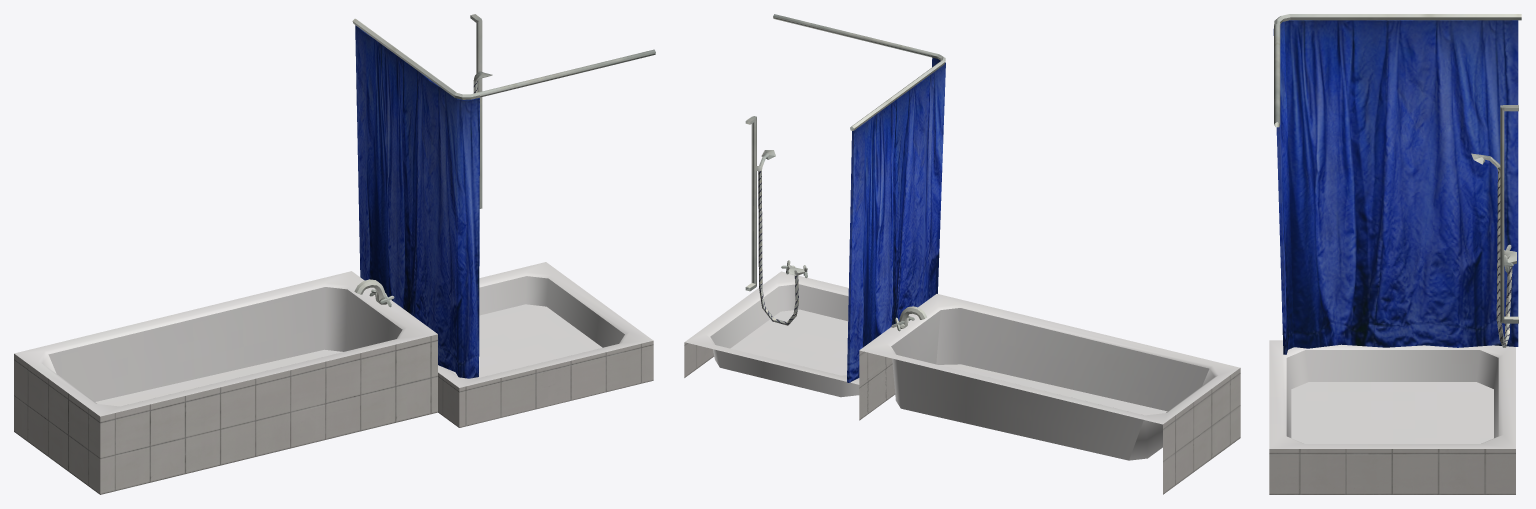
Rendered from Shower.FBX.
3 views of the same model, side by side, from view 1: azimuth 30°, elevation 25°; view 2: azimuth 150°, elevation 25°; view 3: azimuth 270°, elevation 25° (orthographic). The views are drawn at different scales.
Visible parts, largest first — view 1: ShowerBorder, Shower001, Curtain, Pipe; view 2: Shower001, Curtain, ShowerBorder, Pipe, ShowerPipe; view 3: Curtain, Shower001, ShowerBorder, Pipe, ShowerPipe.
Part boxes in pixels (x1,y1,x2,y2): ShowerBorder: (14,334,653,494); Shower001: (14,262,652,416); Curtain: (355,25,479,378); Pipe: (352,14,655,307); Shower001: (685,271,1239,460); Curtain: (847,57,945,382); ShowerBorder: (684,342,1240,494); Pipe: (745,14,945,331); ShowerPipe: (758,171,798,325); Curtain: (1273,20,1518,354); Shower001: (1269,340,1515,448); ShowerBorder: (1269,449,1515,494); Pipe: (1274,14,1521,323); ShowerPipe: (1496,171,1512,347).
Bounding box in the file's own units: 169 × 98.5 × 59.91.
